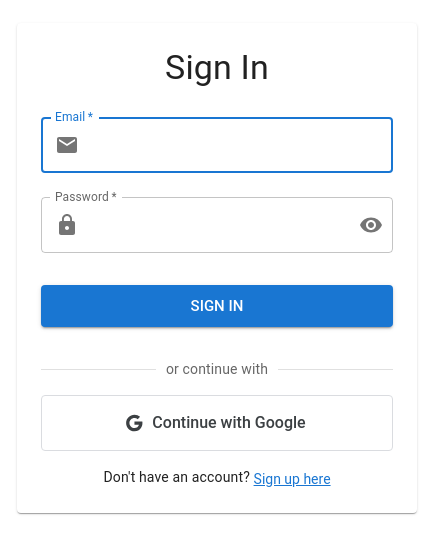
Test case: LoginForm › Form Validation › should show validation error for invalid email
Type "invalid-email" into the field labelled "Email *". click: (240, 145)
box: 87,117 -> 393,173
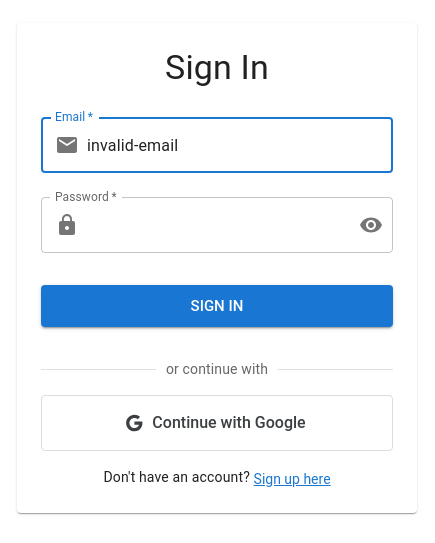
Type "password123" into the password field labelled "Password *". click: (215, 225)
box: 87,197 -> 343,253
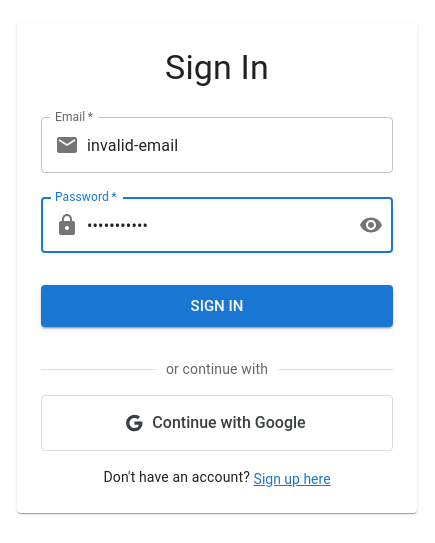
Click the button "Sign In". click: (217, 306)
box: 41,285 -> 393,328
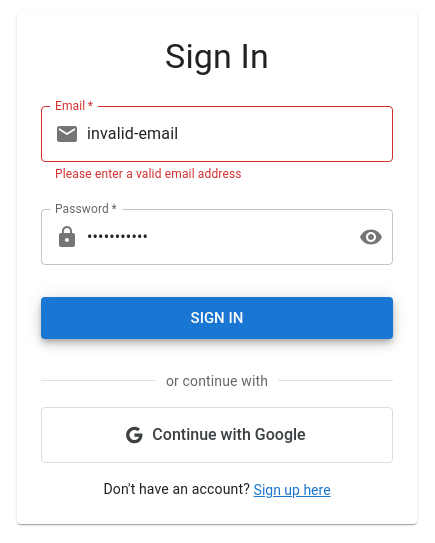
Expected: the text "Please enter a valid email address" is shown, 55,167 -> 242,181
